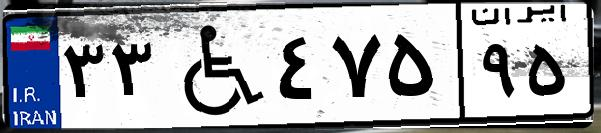3: (57, 26, 110, 100), (110, 28, 158, 98)
4: (270, 28, 330, 110)
5: (385, 28, 445, 110), (525, 38, 570, 115)
7: (330, 28, 385, 110)
9: (475, 38, 525, 113)
ژ (معلولین و جانبازان): (158, 12, 270, 120)
